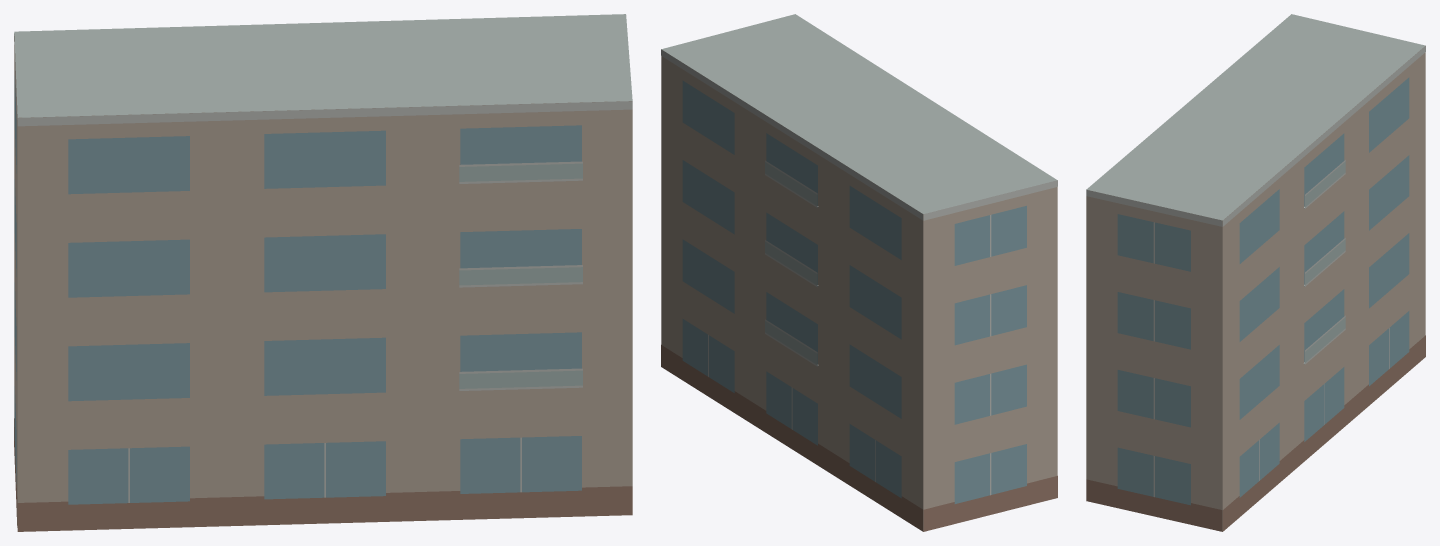
The model's file is survey-upis-32727978.glb.
The picture shows the model from 3 angles, left to right: view 1: azimuth 30°, elevation 25°; view 2: azimuth 150°, elevation 25°; view 3: azimuth 270°, elevation 25°; orthographic projection. The views are drawn at different scales.
Parts seen in each view (by area): view 1: survey-upis-32727978.tmp; view 2: survey-upis-32727978.tmp; view 3: survey-upis-32727978.tmp.
Part boxes in pixels (box(x1,y1,x2,y2)): survey-upis-32727978.tmp: box(14, 14, 632, 531); survey-upis-32727978.tmp: box(661, 14, 1057, 531); survey-upis-32727978.tmp: box(1086, 14, 1425, 531).
Size of the model in its own units: 16.79 by 11.8 by 11.67.
